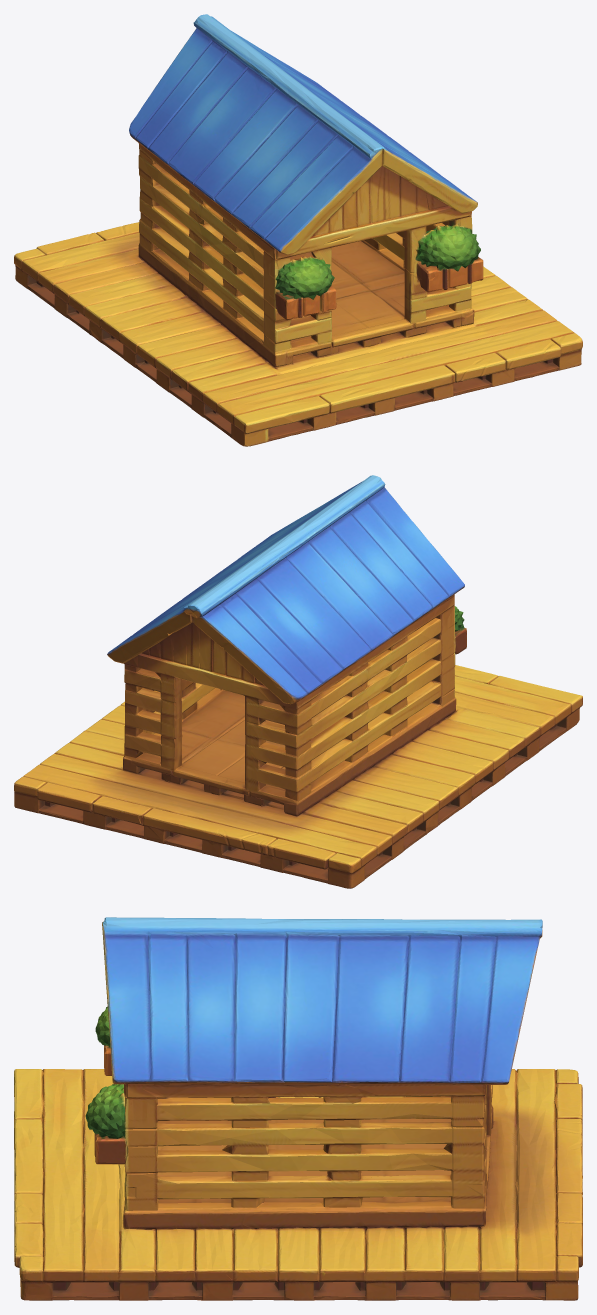
File: DOM_budka_2__second.glb
3 renders of one model, top to bottom at view 1: azimuth 30°, elevation 25°; view 2: azimuth 150°, elevation 25°; view 3: azimuth 270°, elevation 25°, orthographic. The views are drawn at different scales.
Visible parts, largest first — view 1: tripo_node_a098f968-8efe-4a23-b501-2c32e1a966ce; view 2: tripo_node_a098f968-8efe-4a23-b501-2c32e1a966ce; view 3: tripo_node_a098f968-8efe-4a23-b501-2c32e1a966ce.
Part boxes in pixels (bbox=[...]): tripo_node_a098f968-8efe-4a23-b501-2c32e1a966ce: bbox=[14, 14, 582, 446]; tripo_node_a098f968-8efe-4a23-b501-2c32e1a966ce: bbox=[14, 475, 582, 888]; tripo_node_a098f968-8efe-4a23-b501-2c32e1a966ce: bbox=[14, 917, 582, 1300].
Size of the model in its own units: 0.8241 by 0.5364 by 0.981.
1 material, 1 textured.
